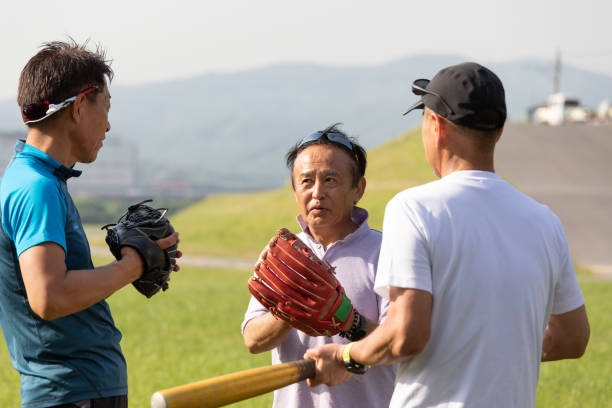bita: (151, 361, 340, 408)
